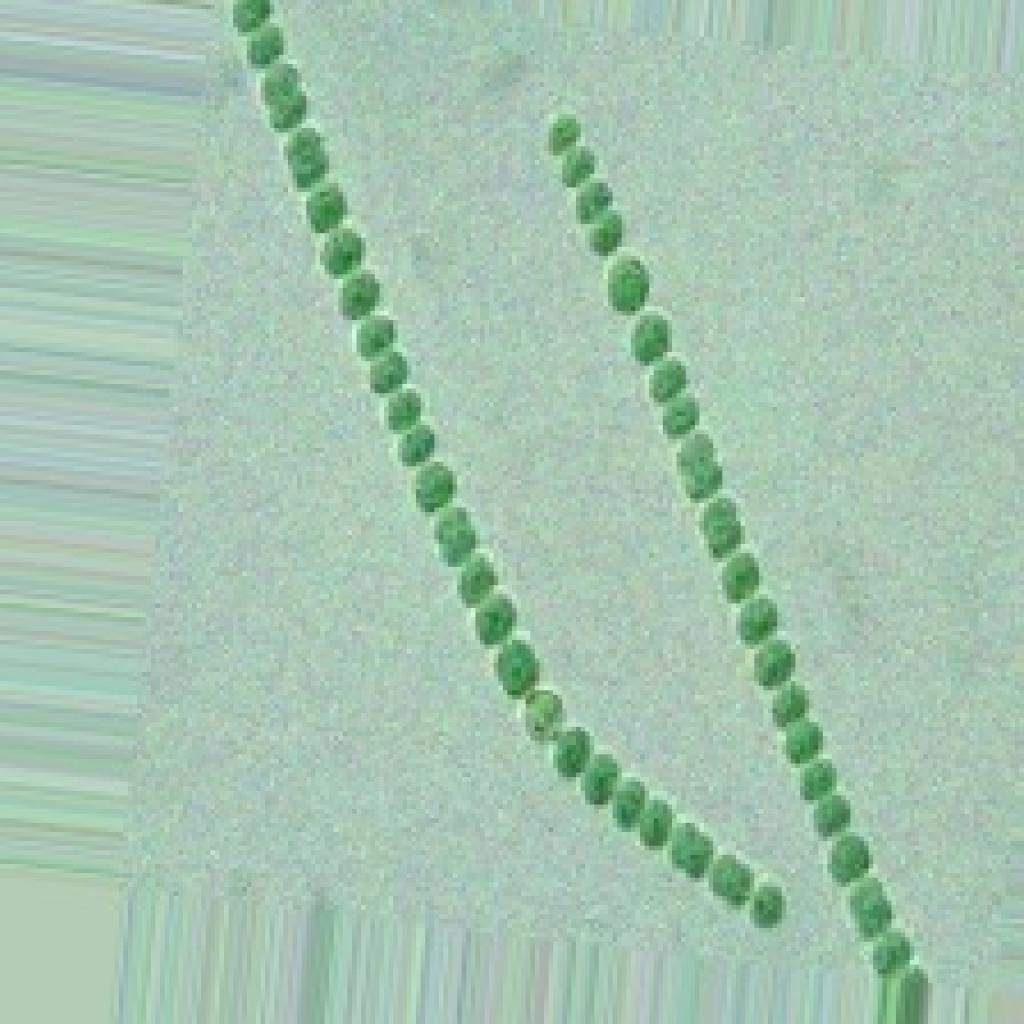Microalgae: (105, 0, 1019, 1019)
